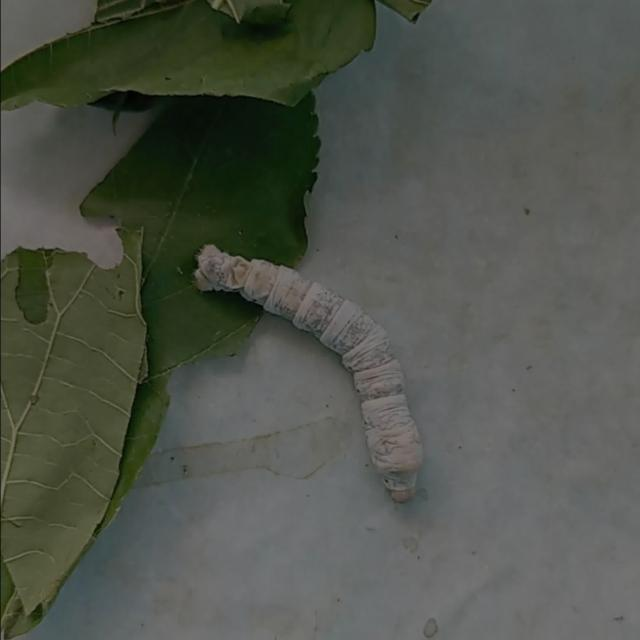Grasserie: (156, 212, 456, 522)
